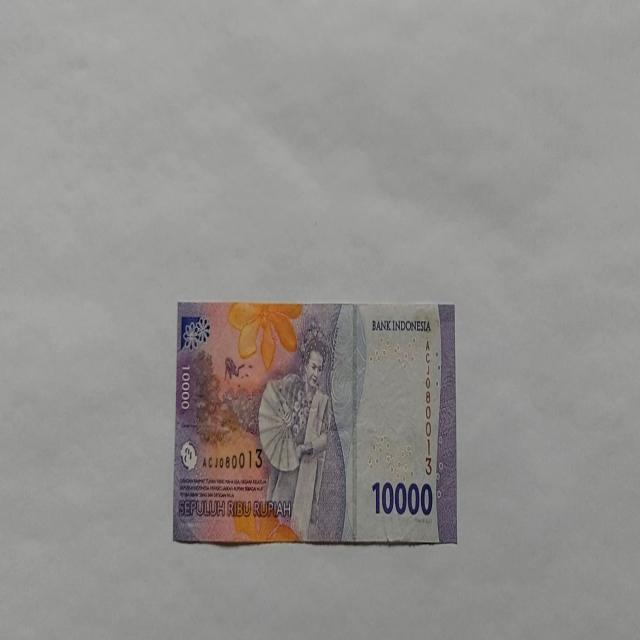sepuluh ribu rupiah: (172, 300, 456, 546)
